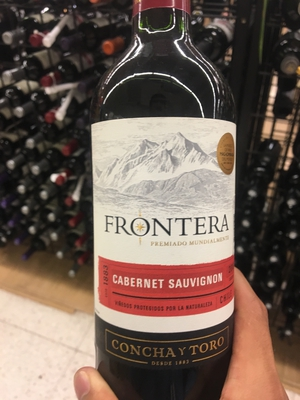frontera cabernet sauvignon: (76, 18, 236, 400)
